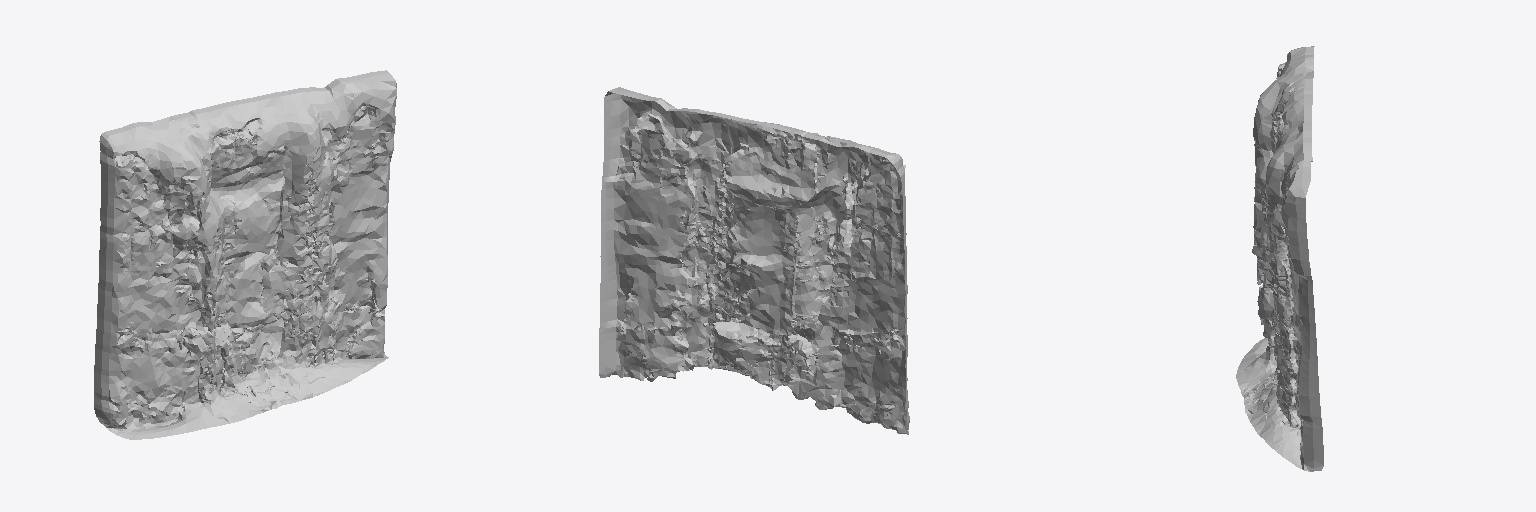
File: ice_wall_3.obj
3 views of the same model, side by side, from view 1: azimuth 30°, elevation 25°; view 2: azimuth 150°, elevation 25°; view 3: azimuth 270°, elevation 25° (orthographic).
Parts seen in each view (by area): view 1: Aset_other__L_uhprdg2fa_LOD0; view 2: Aset_other__L_uhprdg2fa_LOD0; view 3: Aset_other__L_uhprdg2fa_LOD0.
Part boxes in pixels (bbox=[...]): Aset_other__L_uhprdg2fa_LOD0: bbox=[94, 70, 396, 439]; Aset_other__L_uhprdg2fa_LOD0: bbox=[599, 87, 909, 434]; Aset_other__L_uhprdg2fa_LOD0: bbox=[1236, 46, 1323, 471].
Bounding box in the file's own units: 6.61 × 6.14 × 1.67.